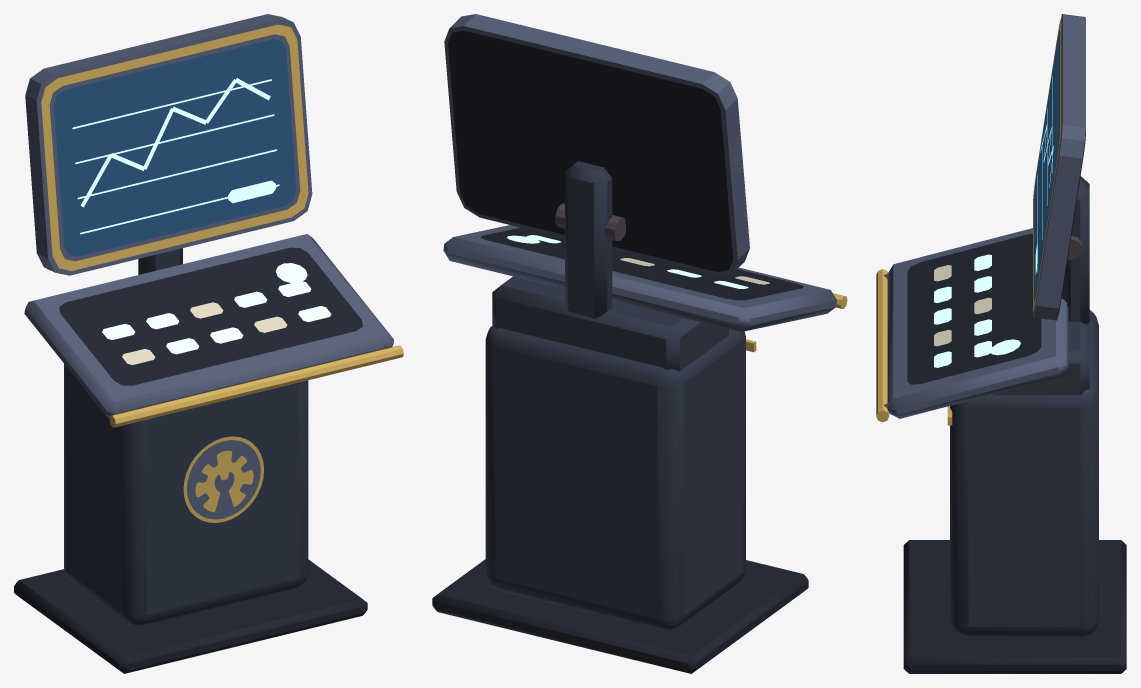
Rendered from ship_console.glb.
3 renders of one model, left to right at view 1: azimuth 30°, elevation 25°; view 2: azimuth 150°, elevation 25°; view 3: azimuth 270°, elevation 25°, orthographic. The views are drawn at different scales.
Parts seen in each view (by area): view 1: ship_console_vcd, ship_console_screen_fine, ship_console_vc, ship_console_vcd_fine, ship_console_vc_fine, ship_console_glow_fine, ship_console_vc_detail; view 2: ship_console_vcd, ship_console_vcd_fine, ship_console_vc, ship_console_vcd_detail, ship_console_glow_fine; view 3: ship_console_vcd, ship_console_vc, ship_console_vcd_fine, ship_console_screen_fine, ship_console_glow_fine, ship_console_vc_detail, ship_console_vc_fine.
Boxes of the visible parts, left/top/right/bottom form: ship_console_vcd: left=14, top=248, right=367, bottom=673; ship_console_screen_fine: left=54, top=39, right=296, bottom=256; ship_console_vc: left=24, top=14, right=393, bottom=417; ship_console_vcd_fine: left=59, top=247, right=362, bottom=385; ship_console_vc_fine: left=41, top=24, right=308, bottom=522; ship_console_glow_fine: left=72, top=78, right=331, bottom=354; ship_console_vc_detail: left=109, top=345, right=403, bottom=427; ship_console_vcd: left=432, top=161, right=808, bottom=673; ship_console_vcd_fine: left=448, top=30, right=803, bottom=300; ship_console_vc: left=443, top=14, right=836, bottom=331; ship_console_vcd_detail: left=555, top=203, right=626, bottom=241; ship_console_glow_fine: left=506, top=235, right=748, bottom=289; ship_console_vcd: left=903, top=176, right=1126, bottom=673; ship_console_vc: left=887, top=14, right=1085, bottom=418; ship_console_vcd_fine: left=907, top=128, right=1085, bottom=384; ship_console_screen_fine: left=1034, top=35, right=1058, bottom=296; ship_console_glow_fine: left=934, top=76, right=1053, bottom=367; ship_console_vc_detail: left=876, top=269, right=952, bottom=425; ship_console_vc_fine: left=934, top=19, right=1061, bottom=346.
Bounding box in the file's own units: 0.72 × 1.29 × 0.539.
